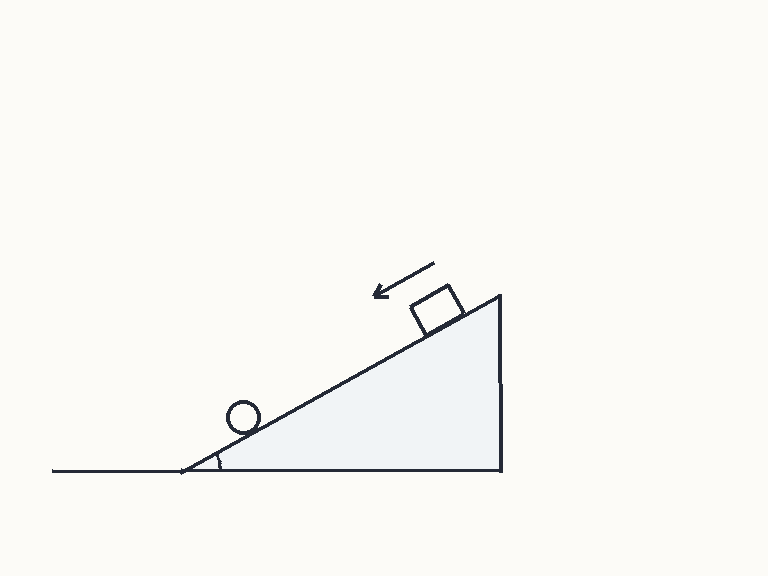ball: (224, 398, 262, 436)
block: (408, 283, 466, 337)
ramp: (178, 292, 501, 473)
